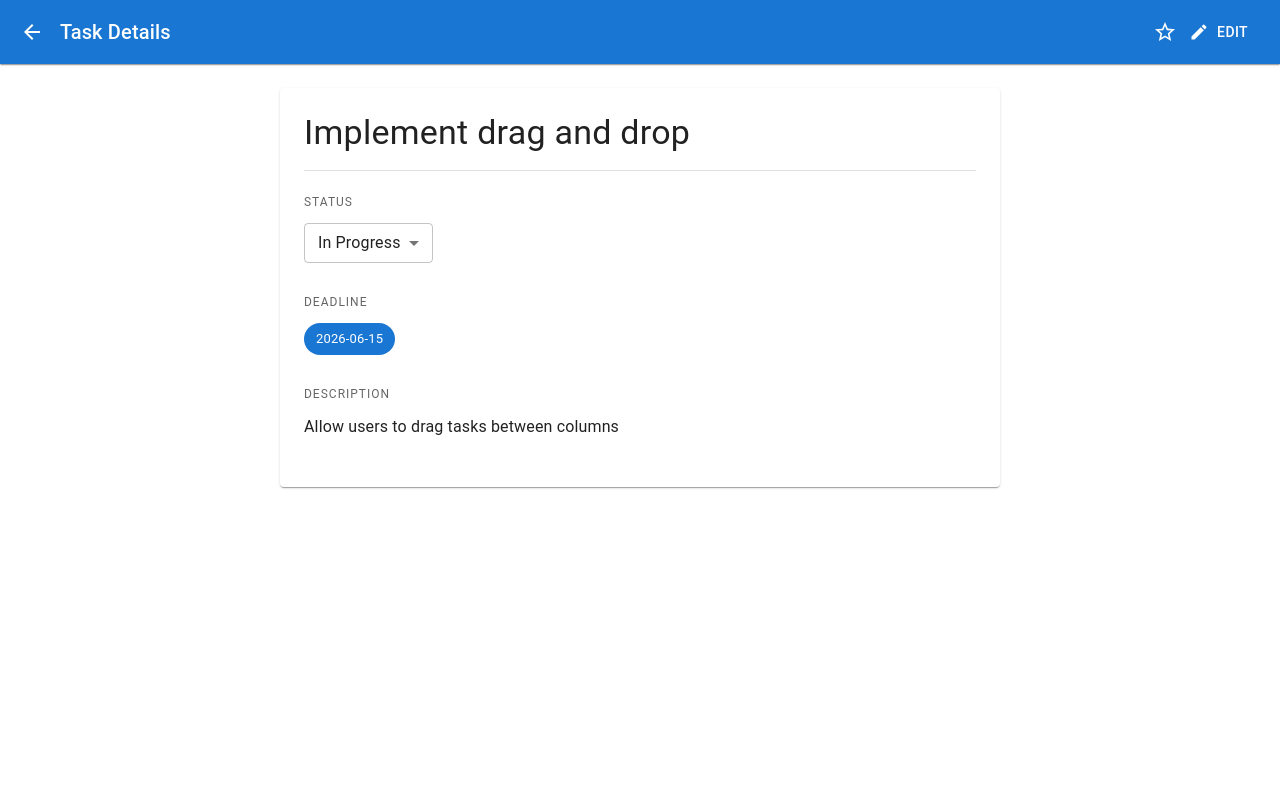
it: TaskDetail › opens the edit dialog when Edit button is clicked
What coordinates should you click on to do the following:
click the button with test id "edit-task-btn"
I would click on:
 (1221, 32)
Its box is [1185,14,1256,50].
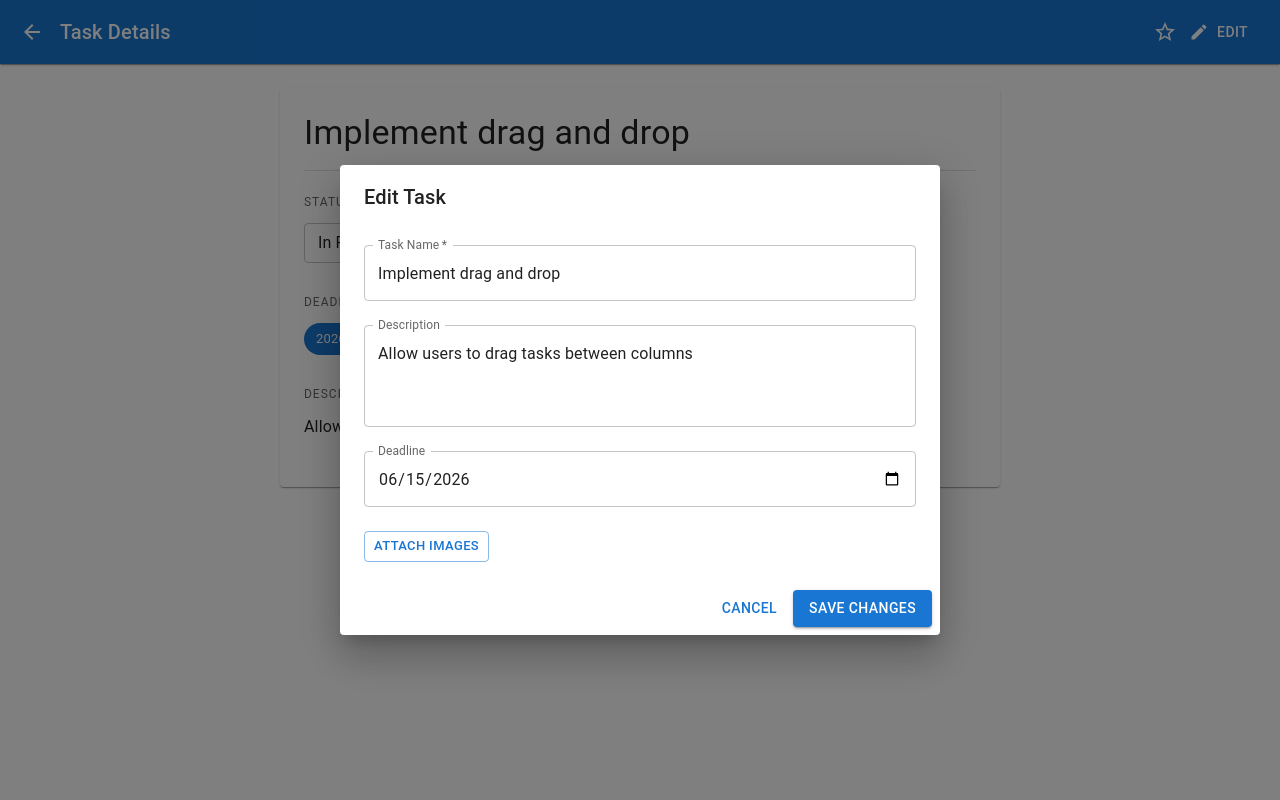
Check: the heading "Edit Task" is shown, box [364,185,446,209]
